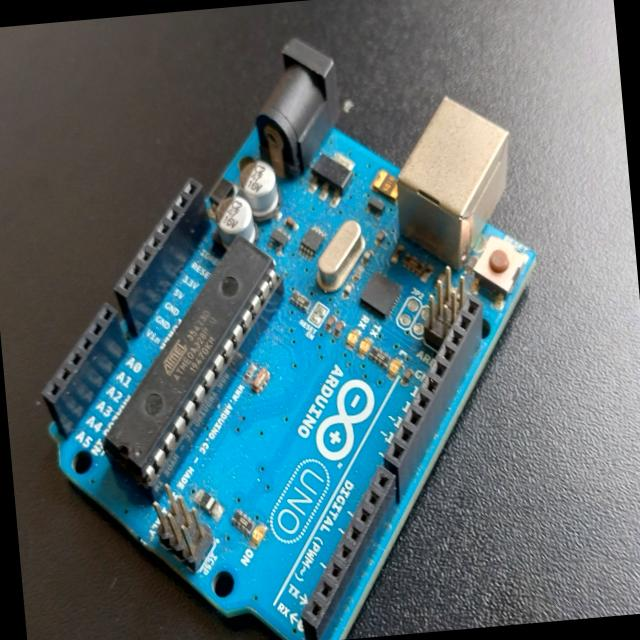arduino: (0, 11, 566, 640)
